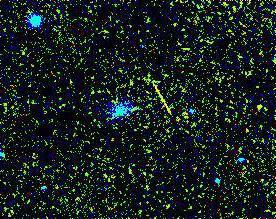star: (147, 78, 177, 108)
